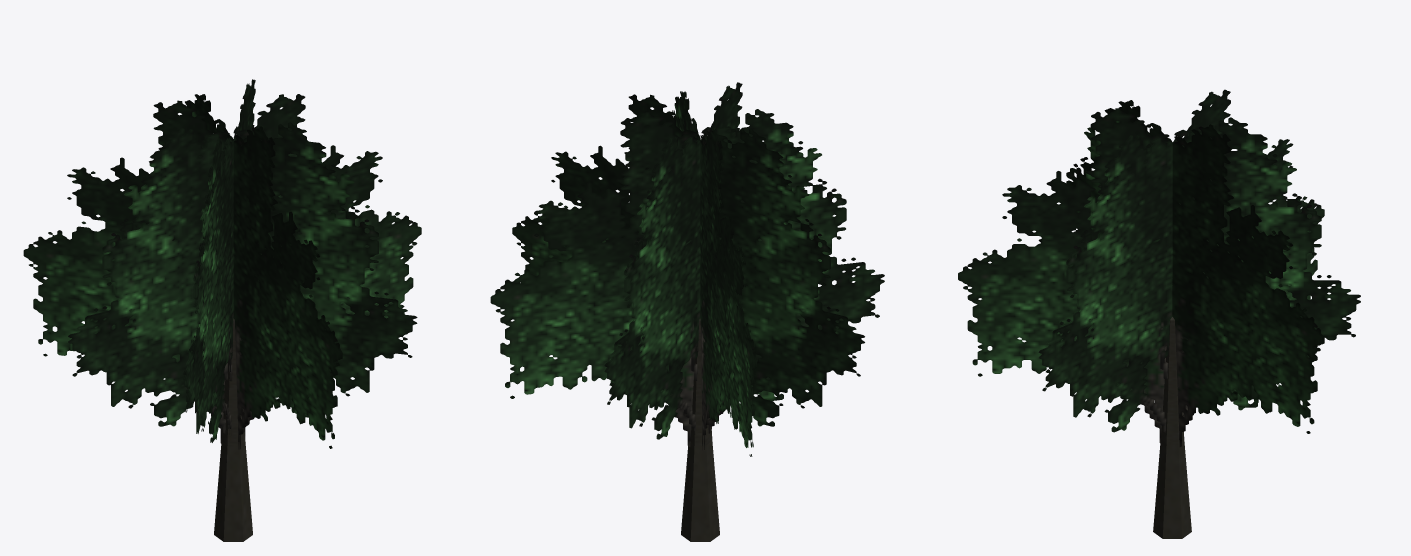
File: tree21.glb
3 renders of one model, left to right at view 1: azimuth 30°, elevation 25°; view 2: azimuth 150°, elevation 25°; view 3: azimuth 270°, elevation 25°, orthographic.
Parts seen in each view (by area): view 1: tree21; view 2: tree21; view 3: tree21.
Part boxes in pixels (x1,y1,x2,y2): tree21: (23, 79, 421, 541); tree21: (490, 82, 884, 541); tree21: (958, 89, 1360, 538).
Size of the model in its own units: 12 by 12.5 by 12.
1 material, 1 textured.
